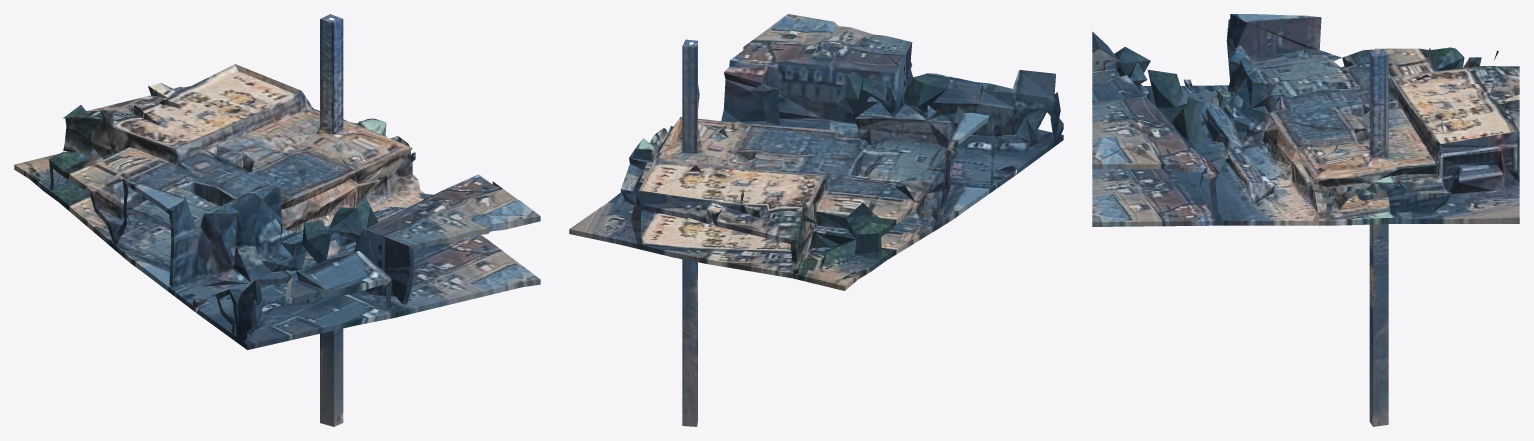
File: chunk_-4_-5.glb
3 views of the same model, side by side, from view 1: azimuth 30°, elevation 25°; view 2: azimuth 150°, elevation 25°; view 3: azimuth 270°, elevation 25° (orthographic). The views are drawn at different scales.
Parts seen in each view (by area): view 1: hero-chunk; view 2: hero-chunk; view 3: hero-chunk.
Part boxes in pixels (left/top/right/bottom): hero-chunk: left=14, top=14, right=540, bottom=426; hero-chunk: left=569, top=14, right=1063, bottom=426; hero-chunk: left=1092, top=14, right=1519, bottom=426.
Size of the model in its own units: 55.42 by 72.95 by 76.32.
Materials: 2 (2 with a texture image).
